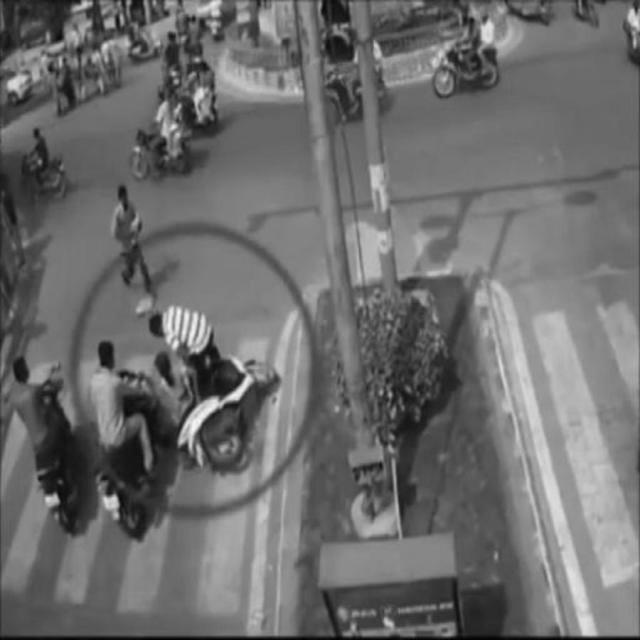accident: (90, 305, 274, 541)
person: (109, 183, 159, 293)
vehicle: (8, 345, 80, 533), (428, 17, 505, 93), (131, 94, 192, 177), (12, 130, 70, 203)
